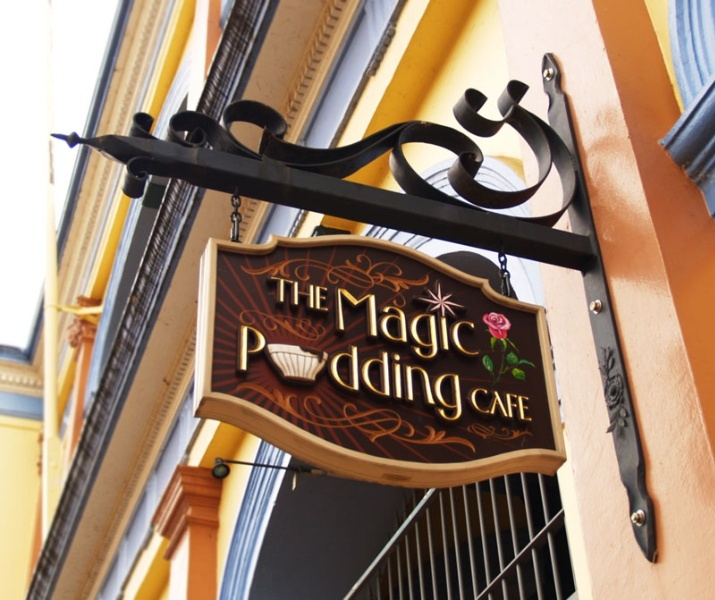text: (241, 321, 256, 426), (257, 321, 272, 426), (273, 321, 288, 426), (289, 321, 304, 426), (305, 321, 320, 426), (321, 321, 336, 426), (337, 321, 352, 426), (353, 321, 368, 426), (369, 321, 384, 426), (385, 321, 400, 426), (401, 321, 416, 426), (417, 321, 432, 426), (433, 321, 448, 426), (449, 321, 464, 426), (337, 283, 352, 371), (353, 283, 368, 371), (369, 283, 384, 371), (385, 283, 400, 371), (401, 283, 416, 371), (417, 283, 432, 371), (433, 283, 448, 371), (449, 283, 464, 371), (465, 283, 480, 371), (273, 275, 288, 312), (289, 275, 304, 312), (305, 275, 320, 312), (481, 385, 496, 422), (497, 385, 512, 422), (513, 385, 528, 422), (236, 321, 240, 426), (469, 385, 480, 422), (321, 275, 329, 312), (481, 283, 483, 371), (529, 385, 532, 422), (270, 275, 272, 312)
